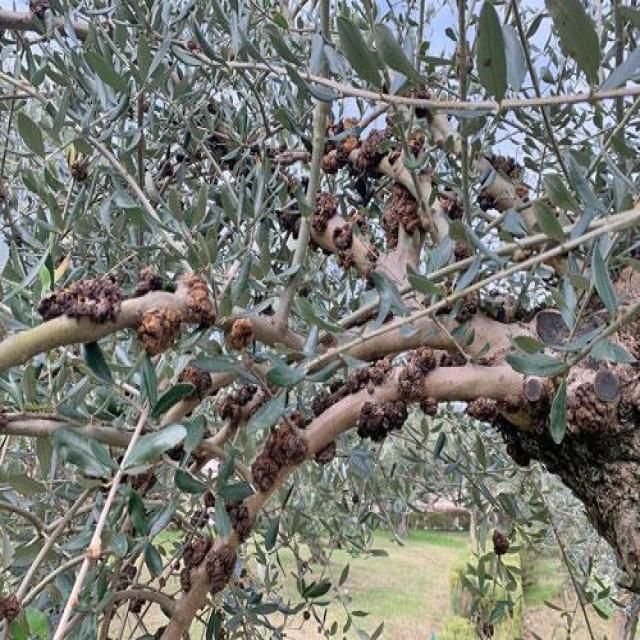Tuberculosis: (201, 415, 306, 592), (306, 348, 450, 456), (40, 266, 215, 354), (311, 191, 376, 280), (322, 126, 408, 178), (382, 182, 422, 248), (220, 382, 261, 430), (180, 531, 212, 592), (177, 360, 210, 399), (225, 316, 256, 350), (409, 128, 424, 159)
